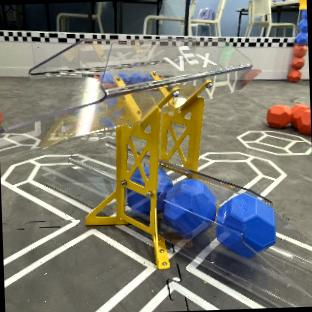V5_BLUE: (215, 193, 276, 256), (164, 179, 216, 235), (295, 9, 308, 44)
V5_RED: (267, 103, 311, 134), (290, 44, 308, 80)
